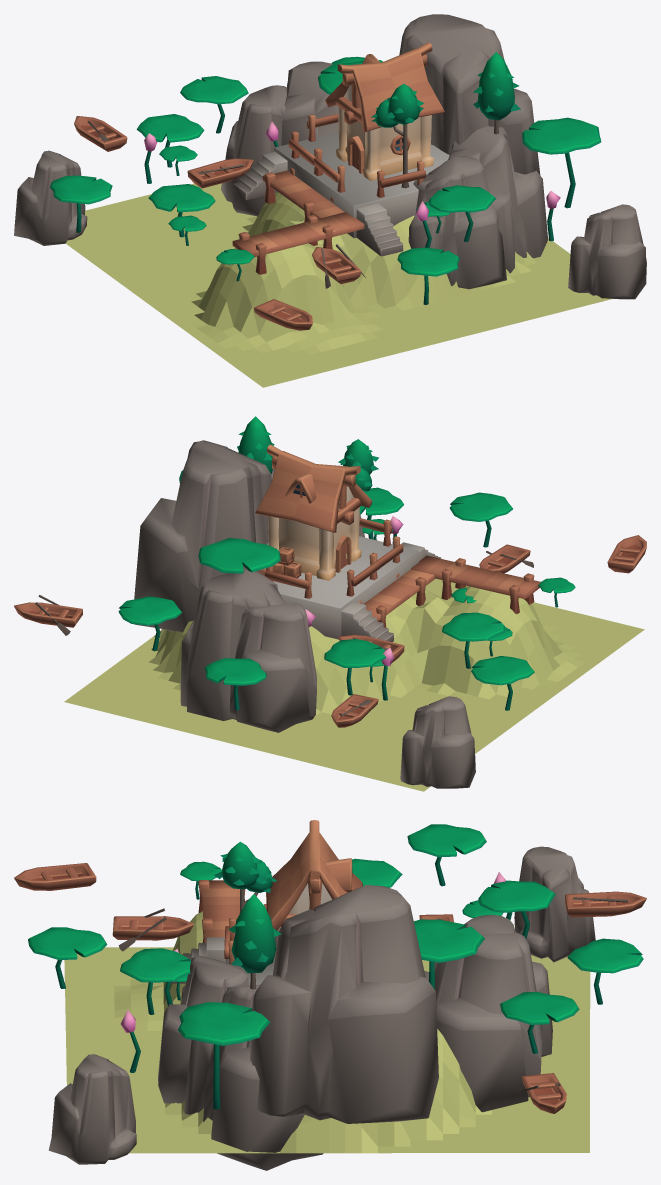
3 views of the same model, one above another, from view 1: azimuth 30°, elevation 25°; view 2: azimuth 150°, elevation 25°; view 3: azimuth 270°, elevation 25° (orthographic). The views are drawn at different scales.
Visible parts, largest first — view 1: Plane, Mountain__5_, House, Mountain__2_, Mountain, Mountain__4_, Mini_babor__2_, Mountain__7_, Mountain__3_, Mountain__1_, wood_birge__4_, lotus__7_ (+19 smaller); view 2: Plane, Mountain__5_, House, Mountain__3_, Mountain__1_, Mountain__7_, Mini_babor__2_, wood_birge__4_, lotus__8_, wood_birge__5_, lotus__13_, lotus__11_ (+15 smaller); view 3: Mountain__5_, Plane, Mountain__1_, Mountain, Mountain__4_, Mountain__7_, House, Mountain__2_, lotus__7_, Low_poly_Tree__26_, lotus__8_, lotus__11_ (+15 smaller).
Part boxes in pixels (<box>): Plane: <box>65,183,612,387</box>; Mountain__5_: <box>399,14,540,174</box>; House: <box>325,42,444,180</box>; Mountain__2_: <box>408,156,506,289</box>; Mountain: <box>448,126,547,273</box>; Mountain__4_: <box>568,204,646,299</box>; Mini_babor__2_: <box>274,132,449,238</box>; Mountain__7_: <box>14,150,87,245</box>; Mountain__3_: <box>221,85,286,216</box>; Mountain__1_: <box>281,61,338,145</box>; wood_birge__4_: <box>232,212,364,274</box>; lotus__7_: <box>522,117,601,208</box>; Plane: <box>64,578,644,791</box>; Mountain__5_: <box>134,440,271,631</box>; House: <box>255,444,372,580</box>; Mountain__3_: <box>229,602,316,732</box>; Mountain__1_: <box>180,569,284,720</box>; Mountain__7_: <box>400,696,475,788</box>; Mini_babor__2_: <box>267,536,418,639</box>; wood_birge__4_: <box>411,555,540,614</box>; lotus__8_: <box>198,538,280,573</box>; wood_birge__5_: <box>358,569,435,627</box>; lotus__13_: <box>442,612,512,668</box>; lotus__11_: <box>324,639,385,695</box>; Mountain__5_: <box>250,885,438,1123</box>; Plane: <box>64,911,590,1153</box>; Mountain__1_: <box>424,932,542,1112</box>; Mountain: <box>184,984,323,1170</box>; Mountain__4_: <box>48,1054,136,1164</box>; Mountain__7_: <box>514,846,595,962</box>; House: <box>266,820,362,956</box>; Mountain__2_: <box>158,955,248,1103</box>; lotus__7_: <box>178,1002,270,1109</box>; Low_poly_Tree__26_: <box>228,894,281,989</box>; lotus__8_: <box>414,919,484,989</box>; lotus__11_: <box>462,880,555,938</box>.
Bounding box in the file's own units: 47.66 × 20.63 × 47.04.
Materials: 2 (1 with a texture image).
